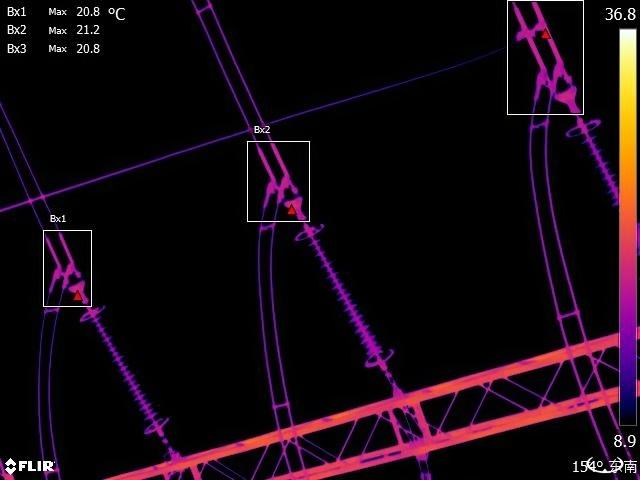clamp: (526, 50, 577, 89), (258, 160, 298, 201), (47, 252, 85, 282)
insulator: (295, 212, 401, 375), (78, 294, 174, 444), (570, 110, 619, 212)
